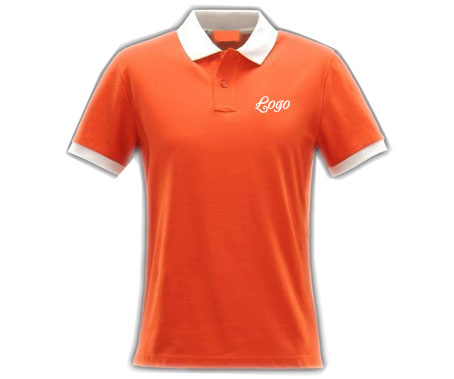T-Shirt: (65, 6, 389, 373)
